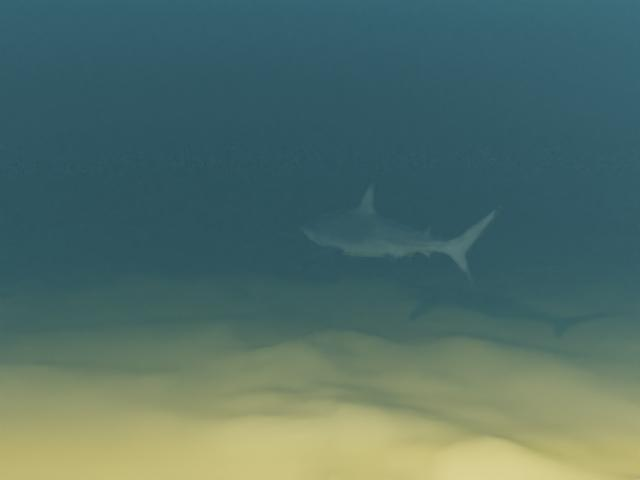Carribean Shark.001: (299, 181, 502, 282)
